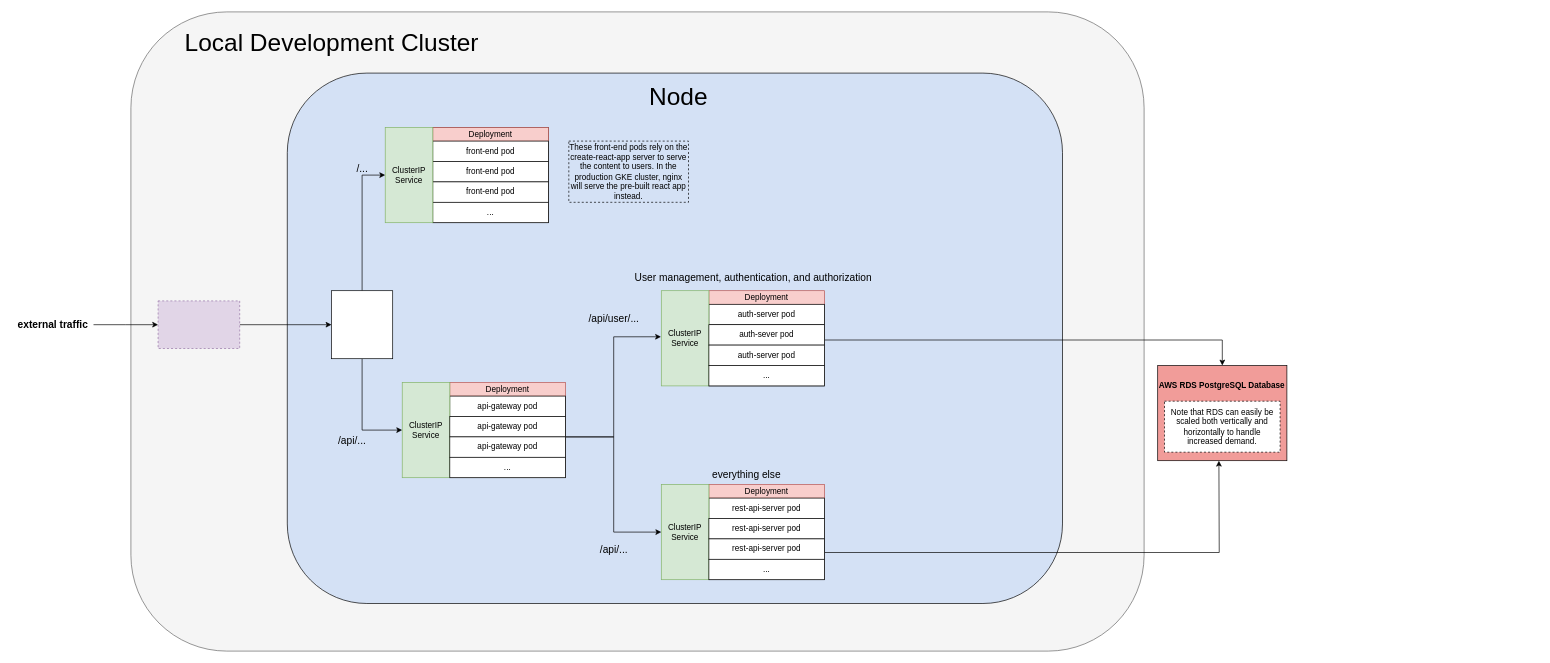
Image size: 1550x663. Some labels were removed from this diagram. The shapes that lost their labels are listed below. From the top down, each one's box as (x1, y1, x2, y2) in pixels, then its label:
(157, 300, 240, 348): ingress-nginx load balancer's external IP
(331, 290, 393, 359): ingress-nginx controller
